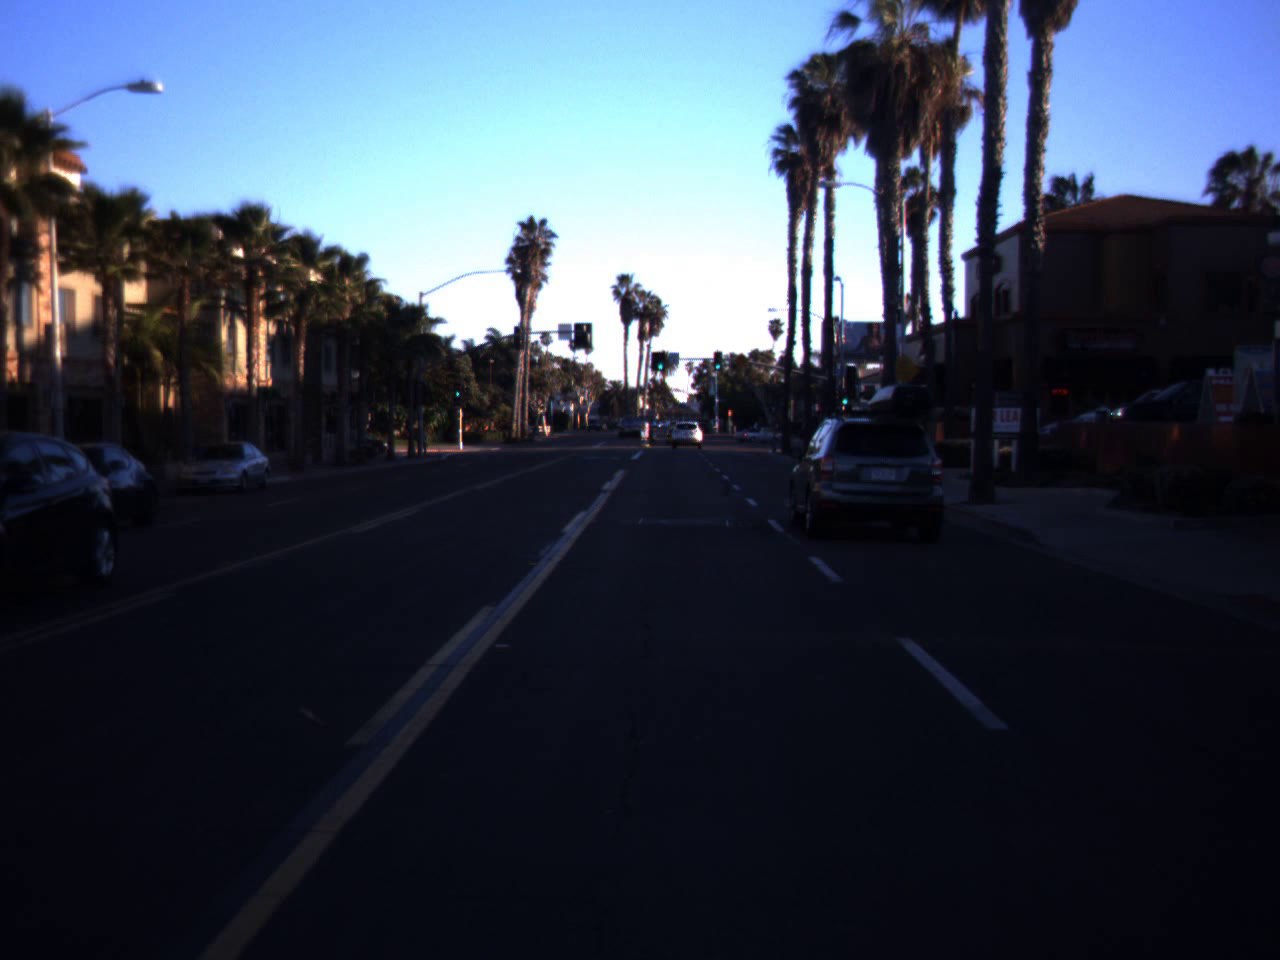go: (451, 378, 463, 398), (654, 351, 666, 371)
